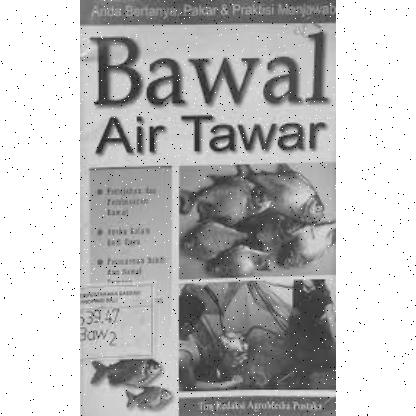ikan-pacu: (190, 174, 274, 224), (272, 171, 328, 221)
